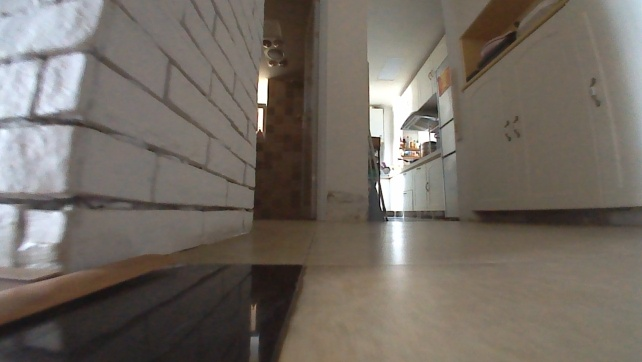cupboard: (394, 146, 443, 218)
refrigerator1: (434, 83, 459, 222)
